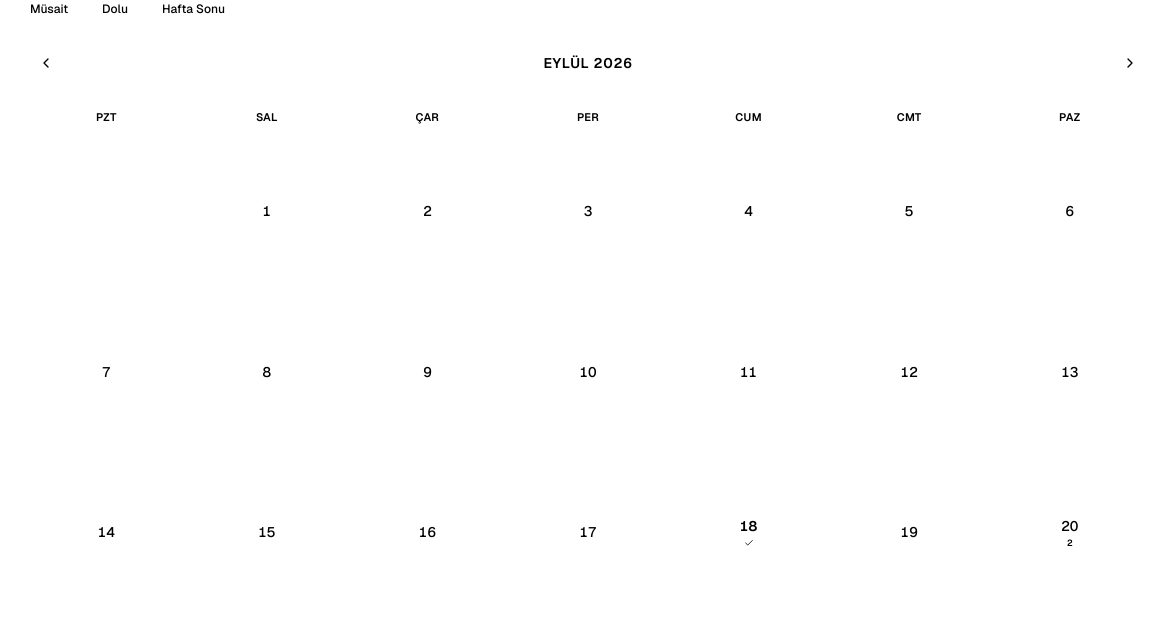
Test: AvailabilityCalendar › bir takvim günü değiştirildiğinde saat ızgarası SEÇİLEN GÜNE göre günceller
Click the button labelled "20 2" at (1070, 532), box [991,454,1148,611]
(page scrolled)
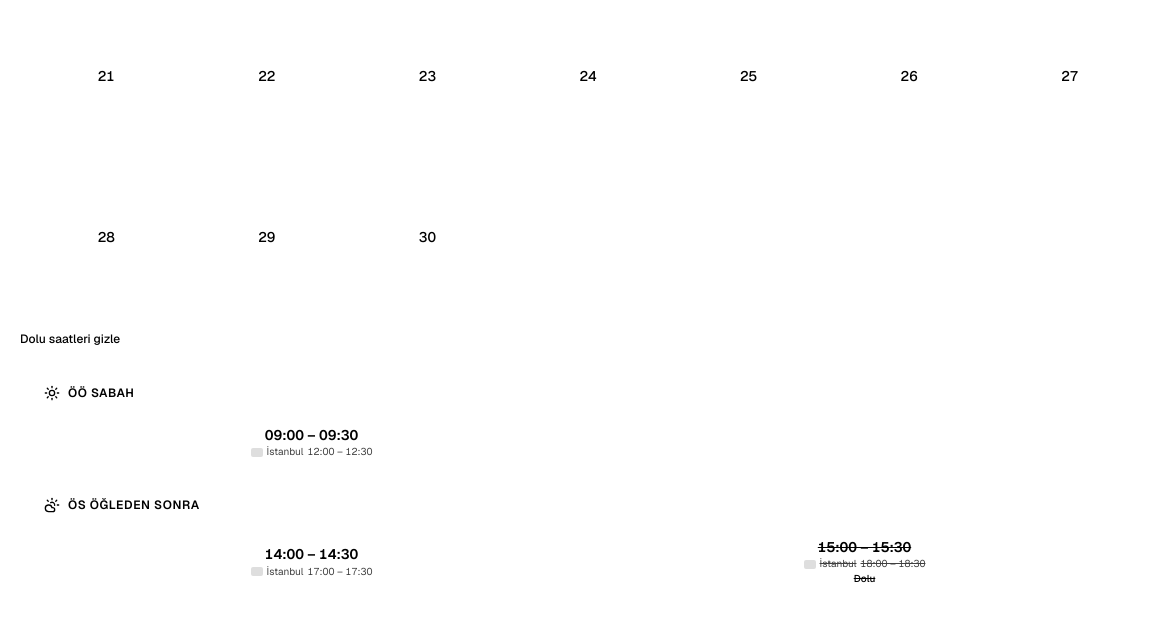
Expected: the text "ÖS Öğleden Sonra" is shown, [68,497,200,513]
Expected: the checkbox named "20 Eylül Pazar, sizin saatinizle 09:00–09:30, İstanbul saatiyle 12:00–12:30 — müsait" is shown, [40,423,583,463]
Expected: the checkbox named "20 Eylül Pazar, sizin saatinizle 15:00–15:30, İstanbul saatiyle 18:00–18:30 — dolu, seçilemez" shows "Dolu", [804,538,925,585]
